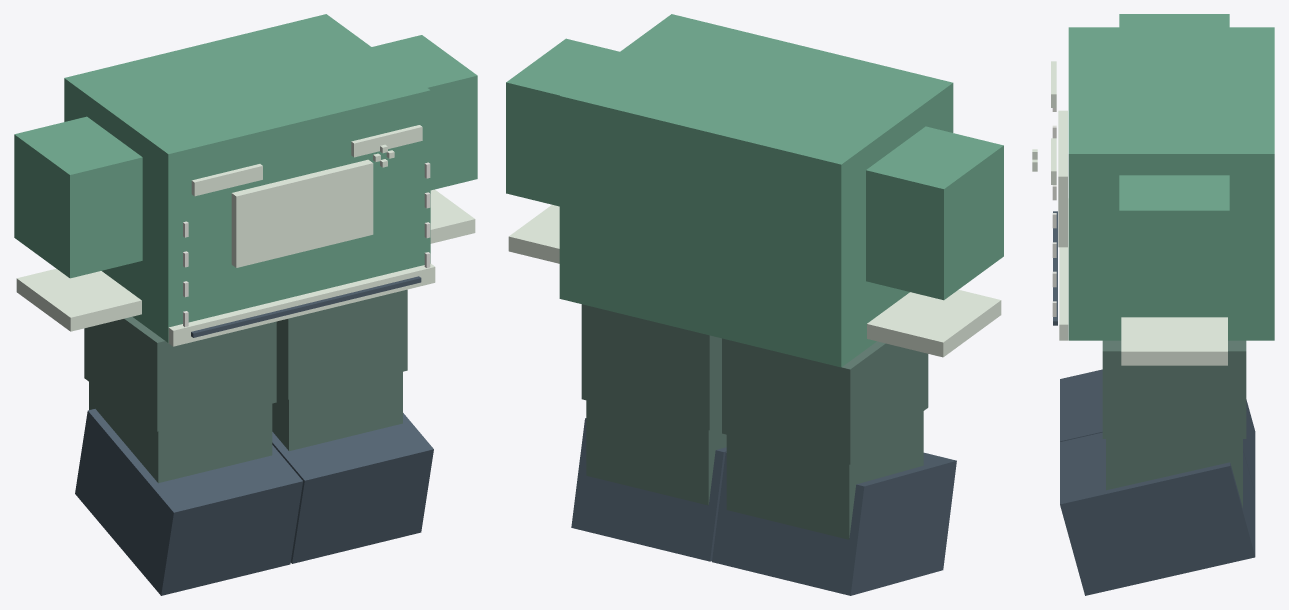
File: casual-emerald.glb
3 views of the same model, side by side, from view 1: azimuth 30°, elevation 25°; view 2: azimuth 150°, elevation 25°; view 3: azimuth 270°, elevation 25° (orthographic). The views are drawn at different scales.
Visible parts, largest first — view 1: jacket, shoe-Right, upper-sleeve-Right, trouser-Right, shoe-Left, tee-panel, trouser-Left, lower-trouser-Right, upper-sleeve-Left, lower-trouser-Left, cuff-Right, tee-hem (+4 smaller); view 2: jacket, upper-sleeve-Right, trouser-Right, shoe-Right, trouser-Left, lower-trouser-Right, lower-trouser-Left, upper-sleeve-Left, shoe-Left, cuff-Right, cuff-Left; view 3: jacket, shoe-Left, upper-sleeve-Left, trouser-Left, lower-trouser-Left, cuff-Left, shoe-Right, upper-sleeve-Right, tee-panel, tee-hem, design-casual-double-hem.
Boxes of the visible parts, left/top/right/bottom form: jacket: left=64, top=14, right=430, bottom=342; shoe-Right: left=75, top=409, right=302, bottom=595; upper-sleeve-Right: left=14, top=116, right=142, bottom=278; trouser-Right: left=84, top=317, right=276, bottom=431; shoe-Left: left=272, top=413, right=433, bottom=563; tee-panel: left=231, top=159, right=373, bottom=267; trouser-Left: left=276, top=289, right=407, bottom=399; lower-trouser-Right: left=89, top=382, right=272, bottom=482; upper-sleeve-Left: left=372, top=35, right=477, bottom=190; lower-trouser-Left: left=272, top=372, right=402, bottom=451; cuff-Right: left=16, top=268, right=141, bottom=331; tee-hem: left=168, top=263, right=435, bottom=346; jacket: left=559, top=14, right=953, bottom=367; upper-sleeve-Right: left=866, top=126, right=1003, bottom=300; trouser-Right: left=722, top=338, right=928, bottom=464; shoe-Right: left=712, top=452, right=956, bottom=595; trouser-Left: left=581, top=304, right=721, bottom=430; lower-trouser-Right: left=726, top=411, right=923, bottom=539; lower-trouser-Left: left=586, top=400, right=726, bottom=505; upper-sleeve-Left: left=506, top=38, right=619, bottom=206; shoe-Left: left=571, top=418, right=726, bottom=561; cuff-Right: left=867, top=289, right=1001, bottom=357; cuff-Left: left=508, top=204, right=559, bottom=263; jacket: left=1068, top=27, right=1274, bottom=340; shoe-Left: left=1060, top=432, right=1255, bottom=595; upper-sleeve-Left: left=1119, top=175, right=1229, bottom=312; trouser-Left: left=1102, top=340, right=1246, bottom=438; lower-trouser-Left: left=1106, top=439, right=1242, bottom=507; cuff-Left: left=1121, top=317, right=1227, bottom=365; shoe-Right: left=1060, top=369, right=1255, bottom=493; upper-sleeve-Right: left=1119, top=14, right=1229, bottom=27; tee-panel: left=1058, top=110, right=1067, bottom=247; tee-hem: left=1059, top=198, right=1068, bottom=340; design-casual-double-hem: left=1053, top=211, right=1057, bottom=325.
Size of the model in its own units: 1.07 by 1.13 by 0.559.
